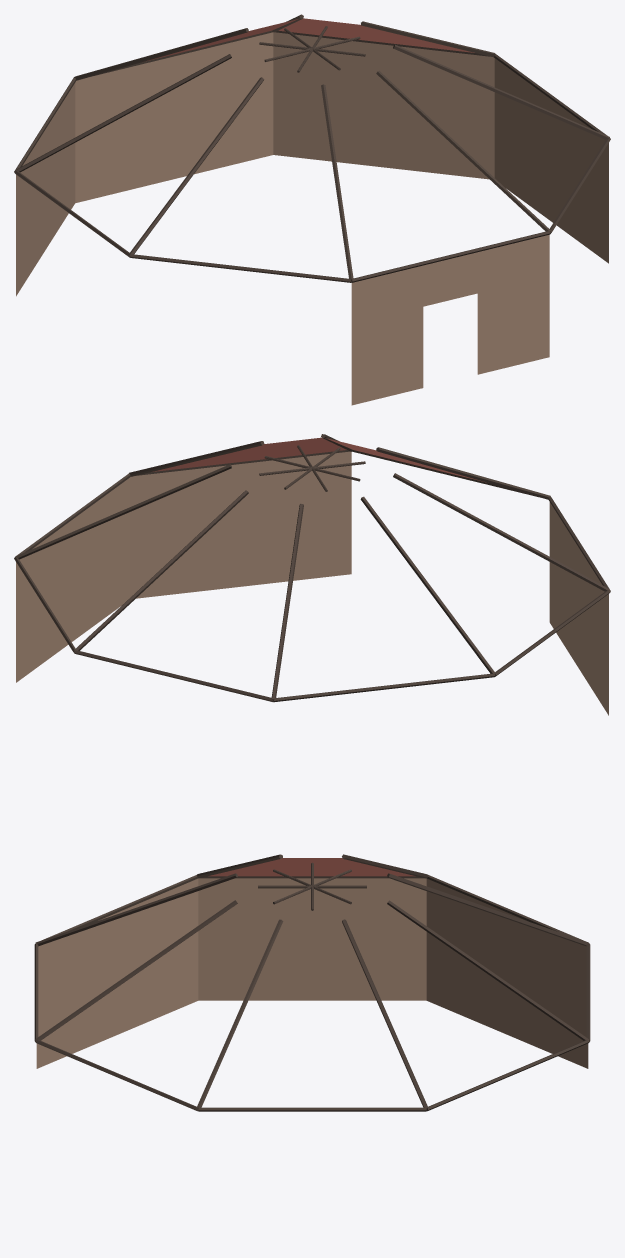
The model's file is clean_lowpoly_yurt_with_open_shanyrak.glb.
3 views of the same model, one above another, from view 1: azimuth 30°, elevation 25°; view 2: azimuth 150°, elevation 25°; view 3: azimuth 270°, elevation 25° (orthographic).
Visible parts, largest first — view 1: YurtWall_05, YurtWall_04, YurtWall_06, YurtWall_Entrance_RightJamb, YurtWall_Entrance_LeftJamb, YurtWall_03, YurtWall_Entrance_TopLintel, YurtRoofSegment_05, RoofRadialBeam_03, RoofRadialBeam_07, RoofRadialBeam_00, RoofRadialBeam_02 (+7 smaller); view 2: YurtWall_07, YurtWall_06, YurtWall_01, YurtRoofSegment_07, RoofRadialBeam_02, RoofRadialBeam_06, RoofRadialBeam_05, RoofRadialBeam_03, RoofRadialBeam_04, TopWallBelt_03, TopWallBelt_04, RoofRadialBeam_01 (+4 smaller); view 3: YurtWall_02, YurtWall_01, YurtWall_03, YurtRoofSegment_02, RoofRadialBeam_00, RoofRadialBeam_05, TopWallBelt_06, RoofRadialBeam_01, RoofRadialBeam_04, RoofRadialBeam_07, RoofRadialBeam_06, TopWallBelt_05 (+4 smaller).
Boxes of the visible parts, x1,y1,x2,y2 form: YurtWall_05: (273,32,494,179); YurtWall_04: (75,32,273,203); YurtWall_06: (494,58,608,263); YurtWall_Entrance_RightJamb: (477,234,549,374); YurtWall_Entrance_LeftJamb: (351,265,423,405); YurtWall_03: (16,83,75,296); YurtWall_Entrance_TopLintel: (423,252,477,306); YurtRoofSegment_05: (278,18,474,52); RoofRadialBeam_03: (15,54,231,172); RoofRadialBeam_07: (393,44,609,139); RoofRadialBeam_00: (376,70,550,231); RoofRadialBeam_02: (129,77,263,254); YurtWall_07: (130,451,351,598); YurtWall_06: (16,477,130,682); YurtWall_01: (549,502,608,715); YurtRoofSegment_07: (152,437,346,471); RoofRadialBeam_02: (393,473,609,591); RoofRadialBeam_06: (15,464,231,559); RoofRadialBeam_05: (74,490,248,650); RoofRadialBeam_03: (360,496,495,674); RoofRadialBeam_04: (271,503,303,699); TopWallBelt_03: (273,673,494,702); TopWallBelt_04: (74,650,273,701); RoofRadialBeam_01: (376,447,550,499); YurtWall_02: (198,878,426,1000); YurtWall_01: (36,878,198,1068); YurtWall_03: (426,878,588,1068); YurtRoofSegment_02: (208,858,415,876); RoofRadialBeam_00: (35,900,237,1040); RoofRadialBeam_05: (387,900,588,1040); TopWallBelt_06: (198,1107,426,1111); RoofRadialBeam_01: (35,873,237,946); RoofRadialBeam_04: (387,873,589,946); RoofRadialBeam_07: (196,919,283,1108); RoofRadialBeam_06: (342,919,427,1108); TopWallBelt_05: (426,1040,589,1111).
Bounding box in the file's own units: 20 × 8.57 × 20.
